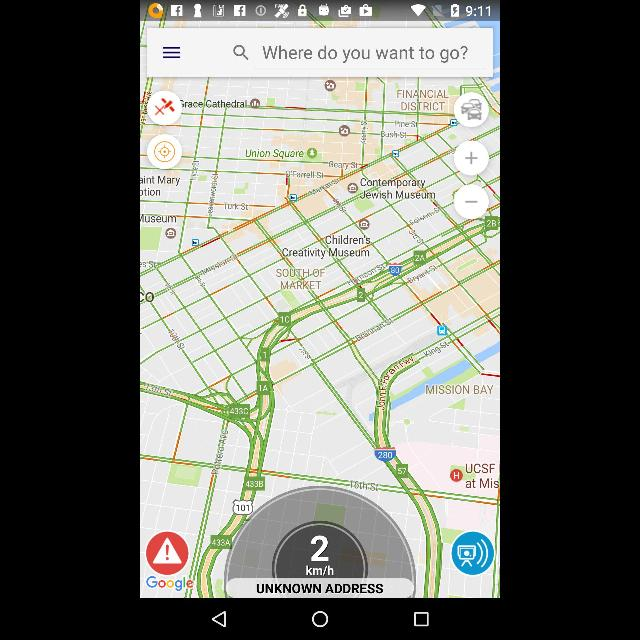icon: (230, 41, 250, 64), (160, 42, 182, 62), (210, 610, 226, 628), (312, 610, 328, 628), (413, 610, 429, 628)
map: (140, 21, 498, 599)
panel: (140, 599, 500, 639)
text: (260, 41, 470, 64)
toolbar: (148, 29, 492, 77)
uppertaskbar: (140, 1, 500, 21)
